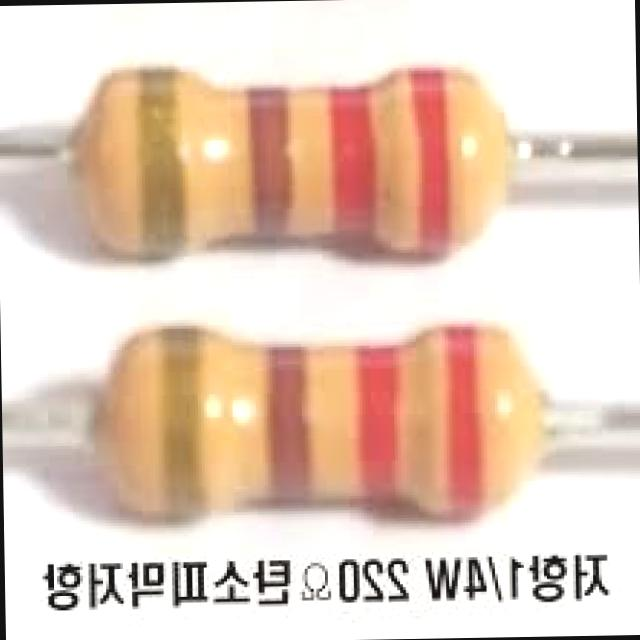Resistor: (83, 322, 558, 516), (66, 66, 522, 257)
brown: (267, 342, 308, 502), (249, 83, 289, 238)
gold: (135, 67, 188, 259), (158, 327, 210, 521)
red: (410, 63, 453, 254), (442, 321, 483, 510), (330, 87, 379, 234), (354, 342, 398, 502)
